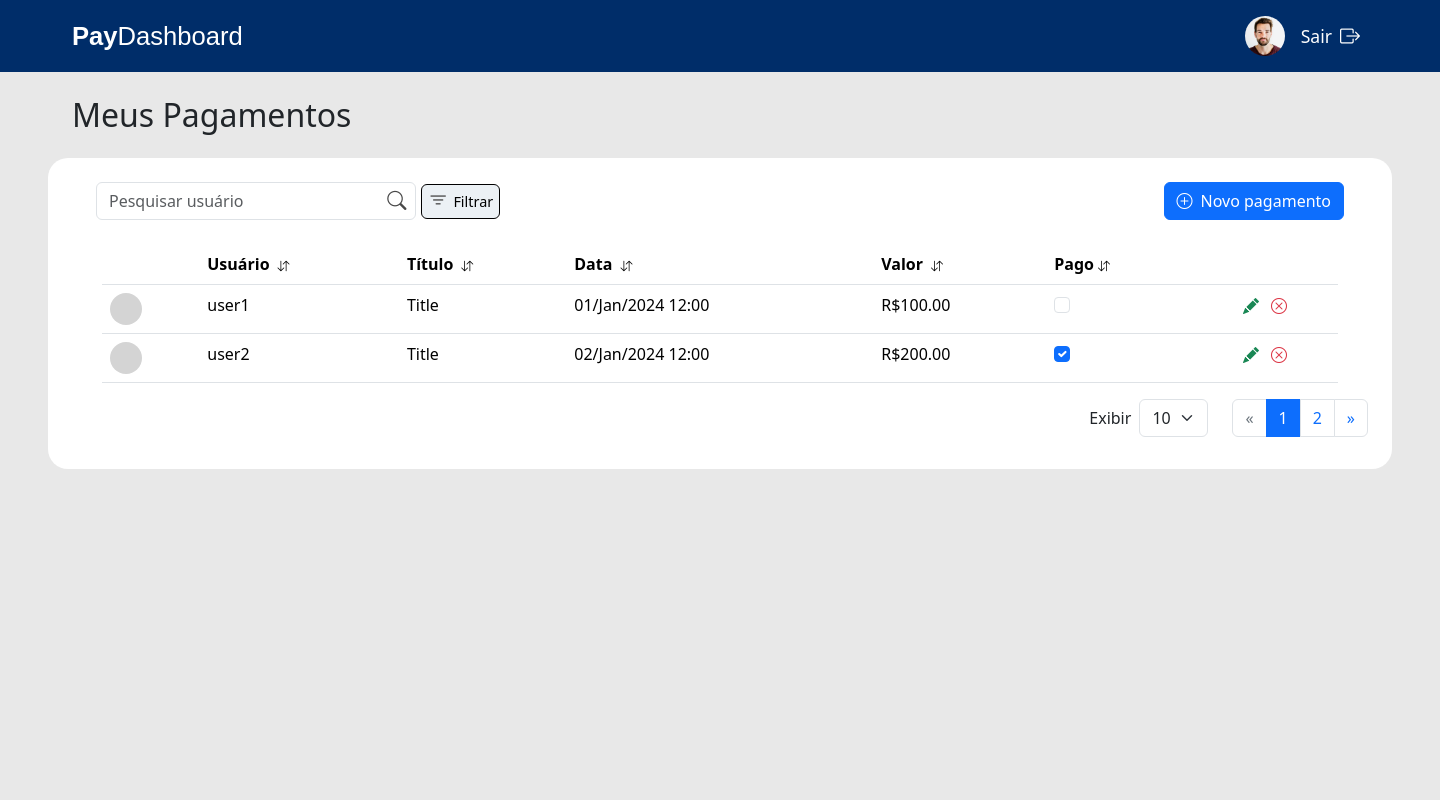
it: Dashboard Component › edit payment › show open modal and edit payment successfully
Click the button with class "dashboard__table-btn-edit" in the row of "user1".
click(1251, 306)  # box [1237,293,1265,319]
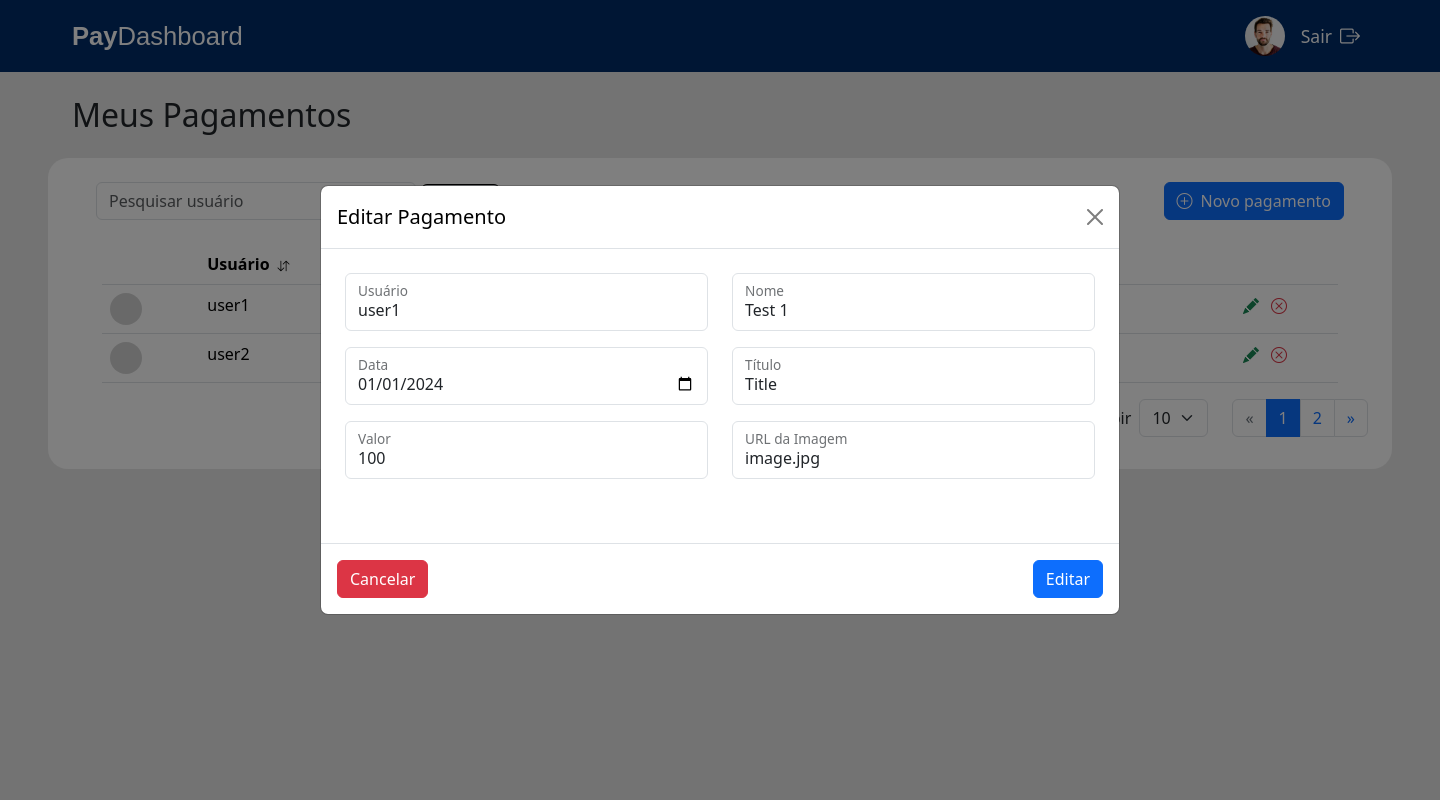
Type "Title Changed" into the field with id "title".
click(914, 376); type("Title Changed")  # box [732,347,1095,405]
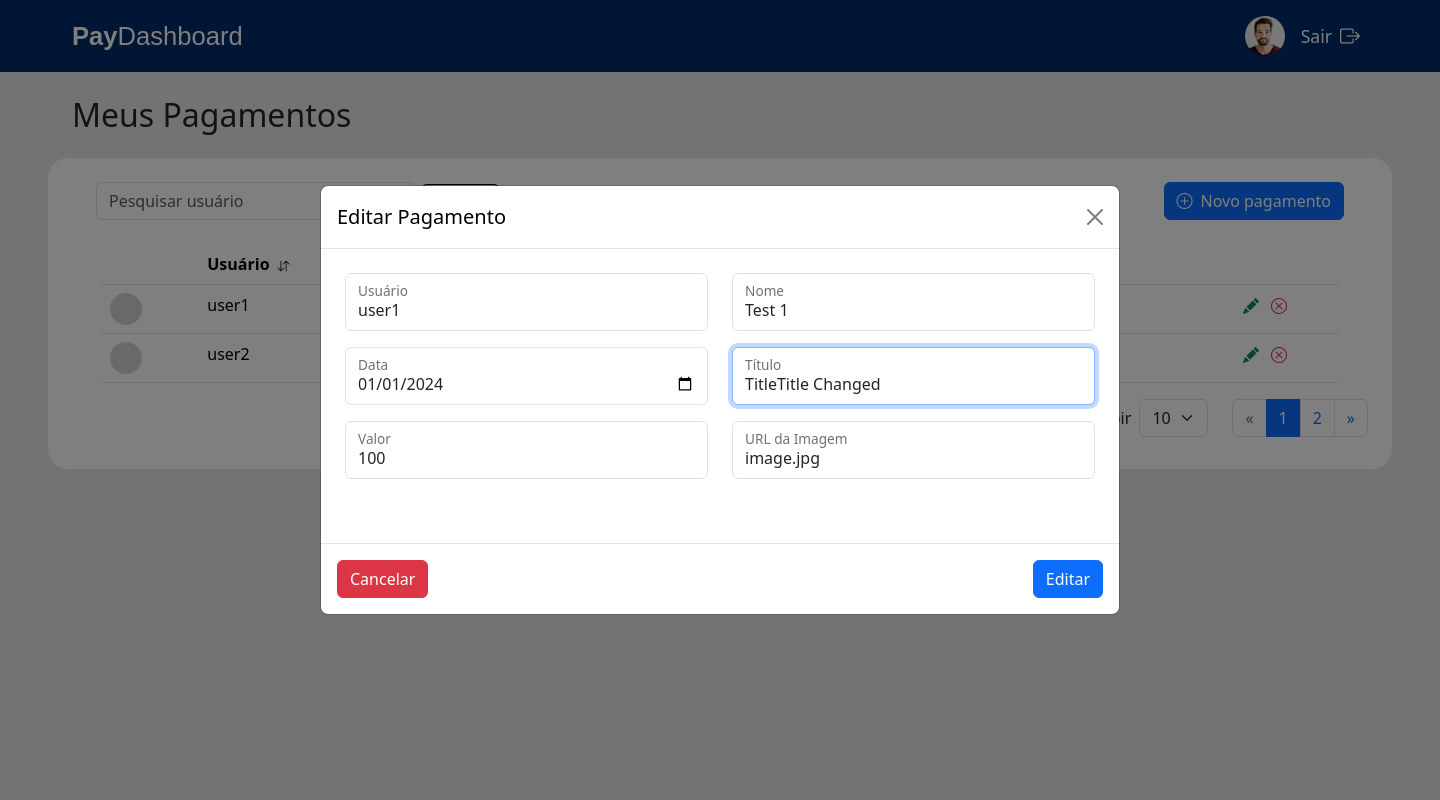
Click the button "Editar".
click(1068, 579)  # box [1033,560,1103,598]
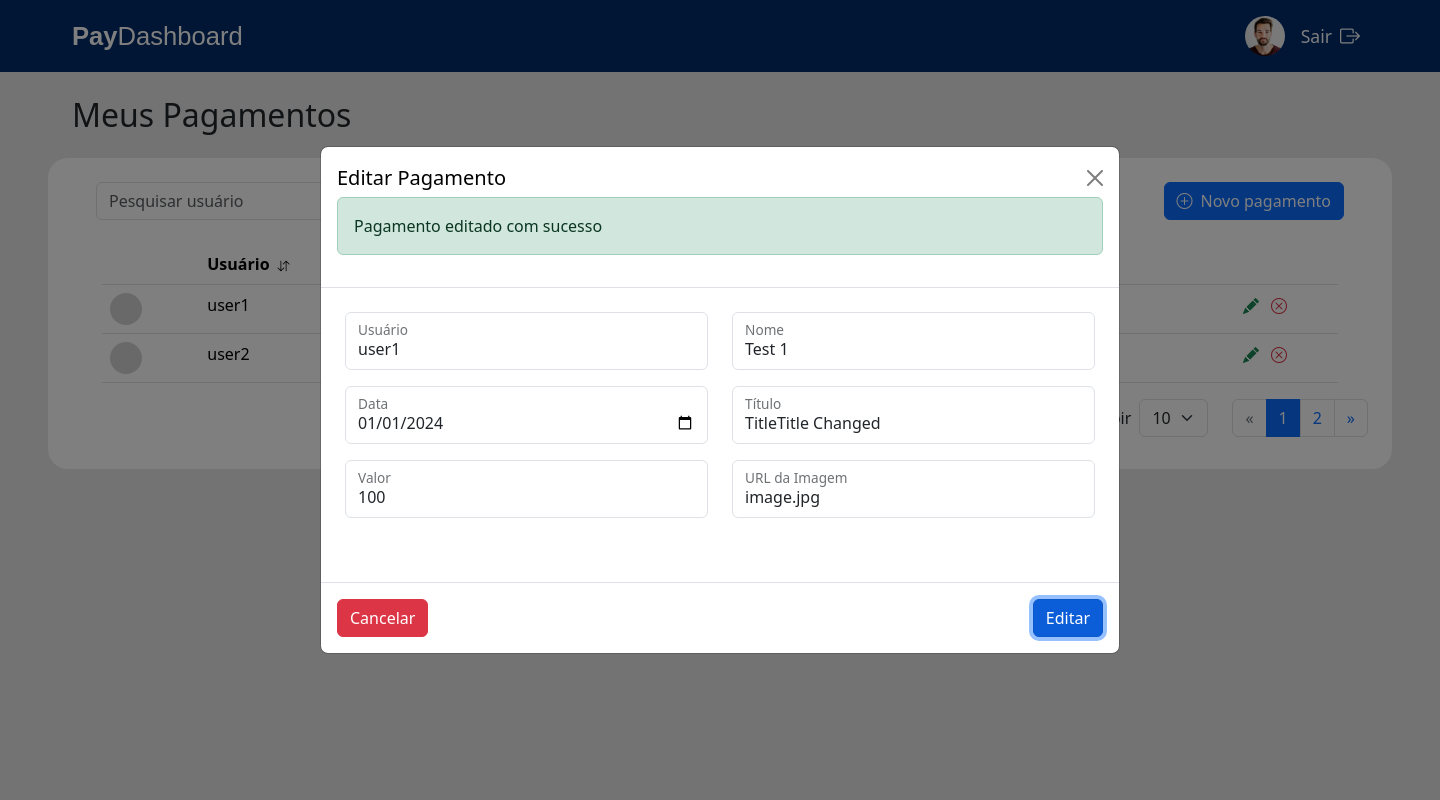
Check: the message with class "alert-success" reads "Pagamento editado com sucesso", box [354,215,602,237]
Check: the message "Pagamento editado com sucesso" is shown, box [337,197,1103,255]
Reload the page
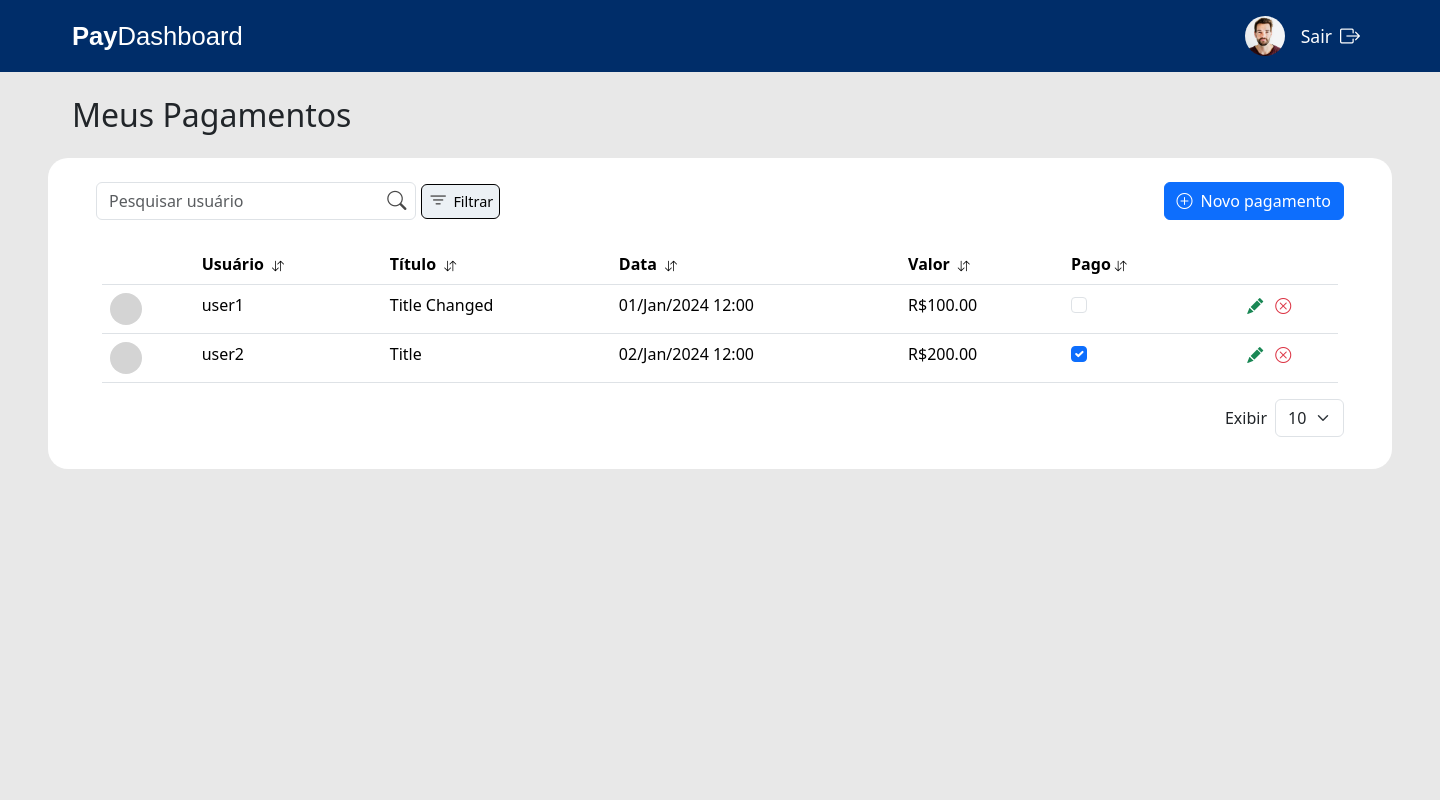
Click the button with class "dashboard__table-btn-edit" in the row of "user1".
click(1255, 306)  # box [1241,293,1269,319]
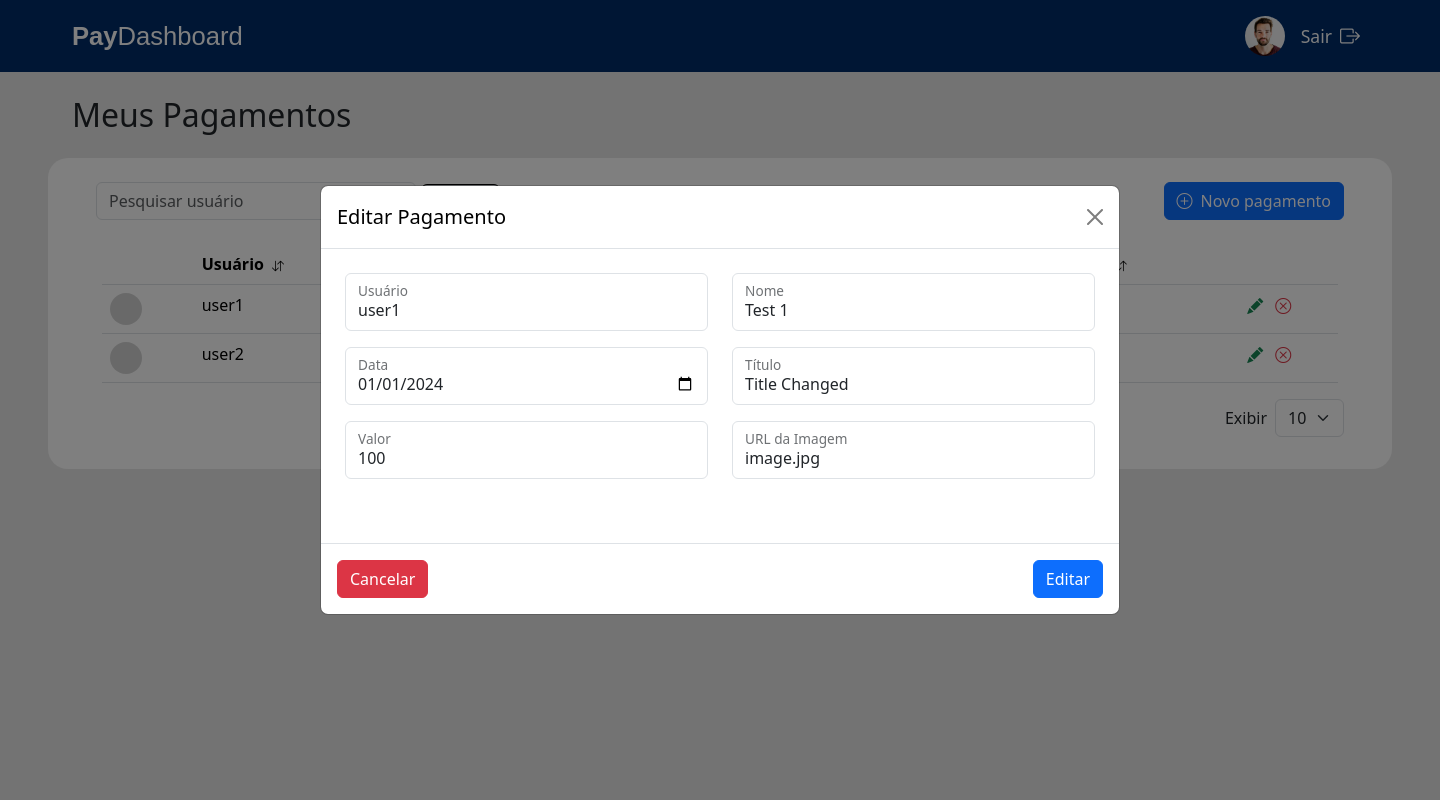
Check: the field with id "title" holds "Title Changed", box [732,347,1095,405]
